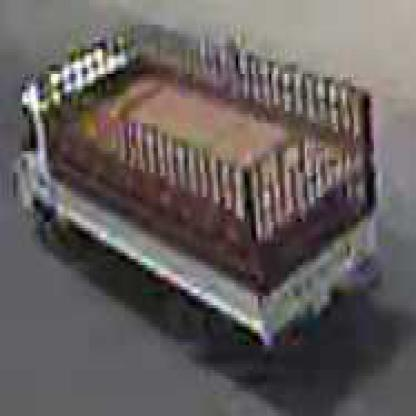truck: (12, 23, 382, 349)
